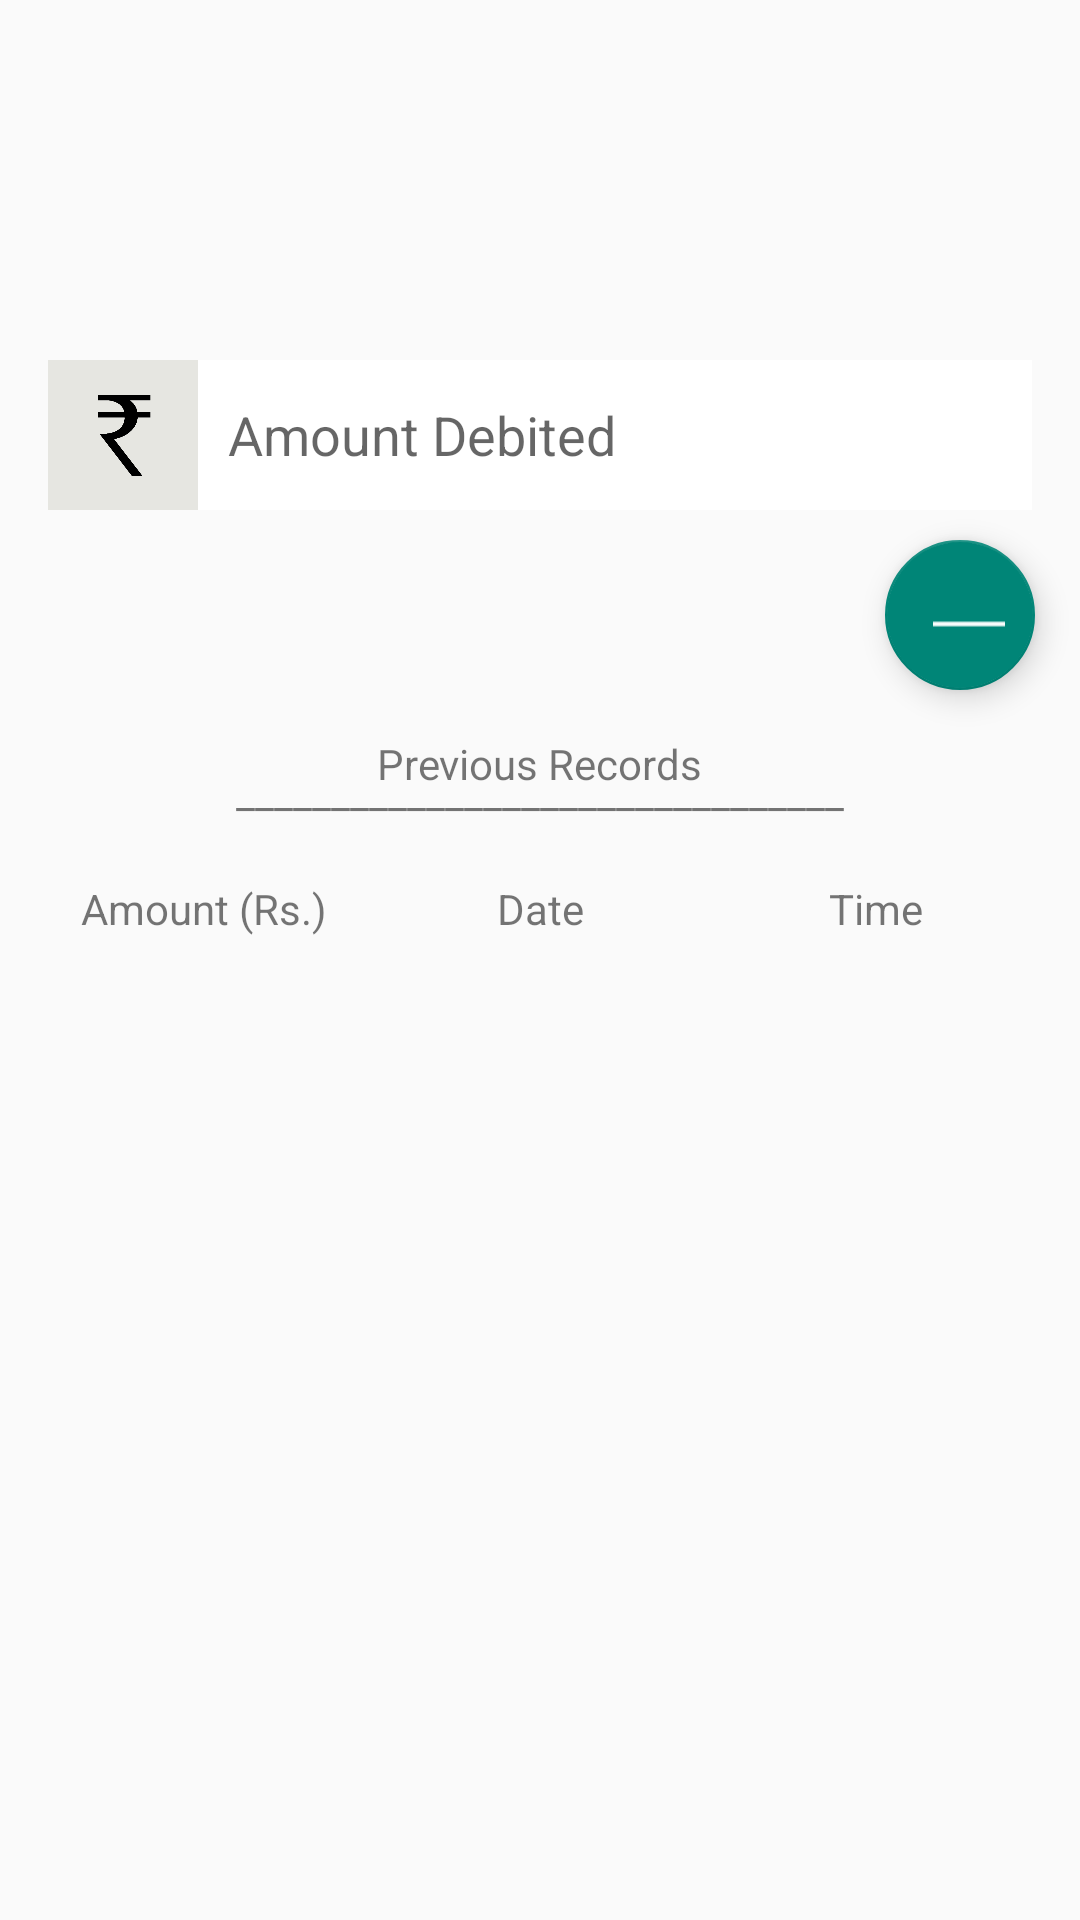

Where icons sit on this 1080x1920 app screen, as (x1, y1, x2, y2):
minus: (885, 540, 1035, 690)
rupeefonts: (48, 360, 198, 510)
